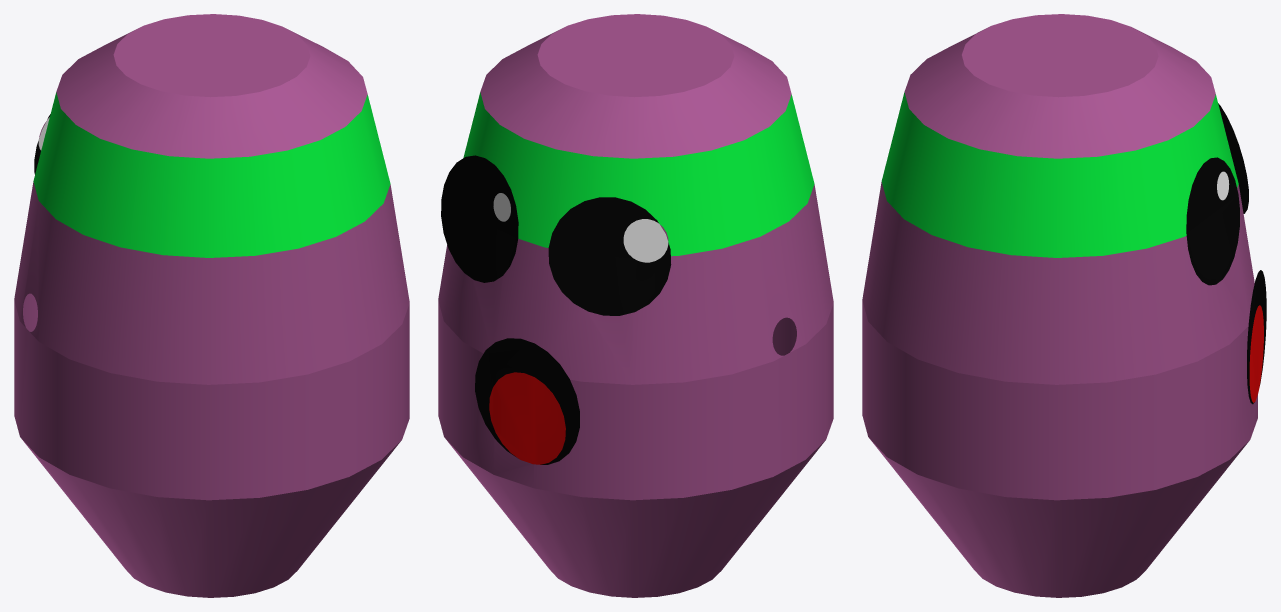
The model's file is Body.FBX.
The picture shows the model from 3 angles, left to right: view 1: azimuth 30°, elevation 25°; view 2: azimuth 150°, elevation 25°; view 3: azimuth 270°, elevation 25°; orthographic projection.
Parts seen in each view (by area): view 1: Body; view 2: Body; view 3: Body.
Part boxes in pixels (<box>): Body: <box>14,14,409,597</box>; Body: <box>438,14,833,597</box>; Body: <box>862,14,1266,597</box>.
Size of the model in its own units: 10.63 by 14.96 by 10.86.
